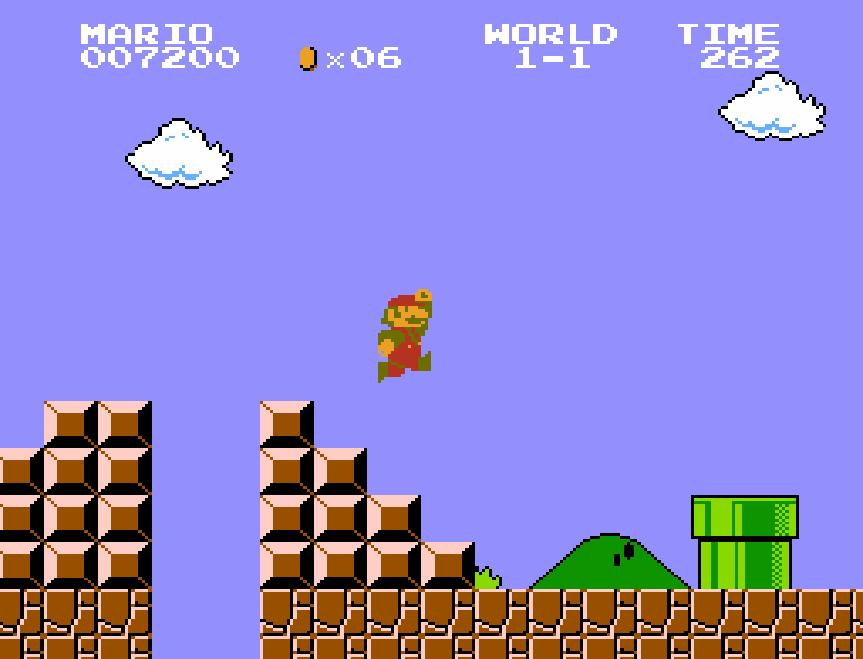big_mario: (376, 286, 434, 384)
